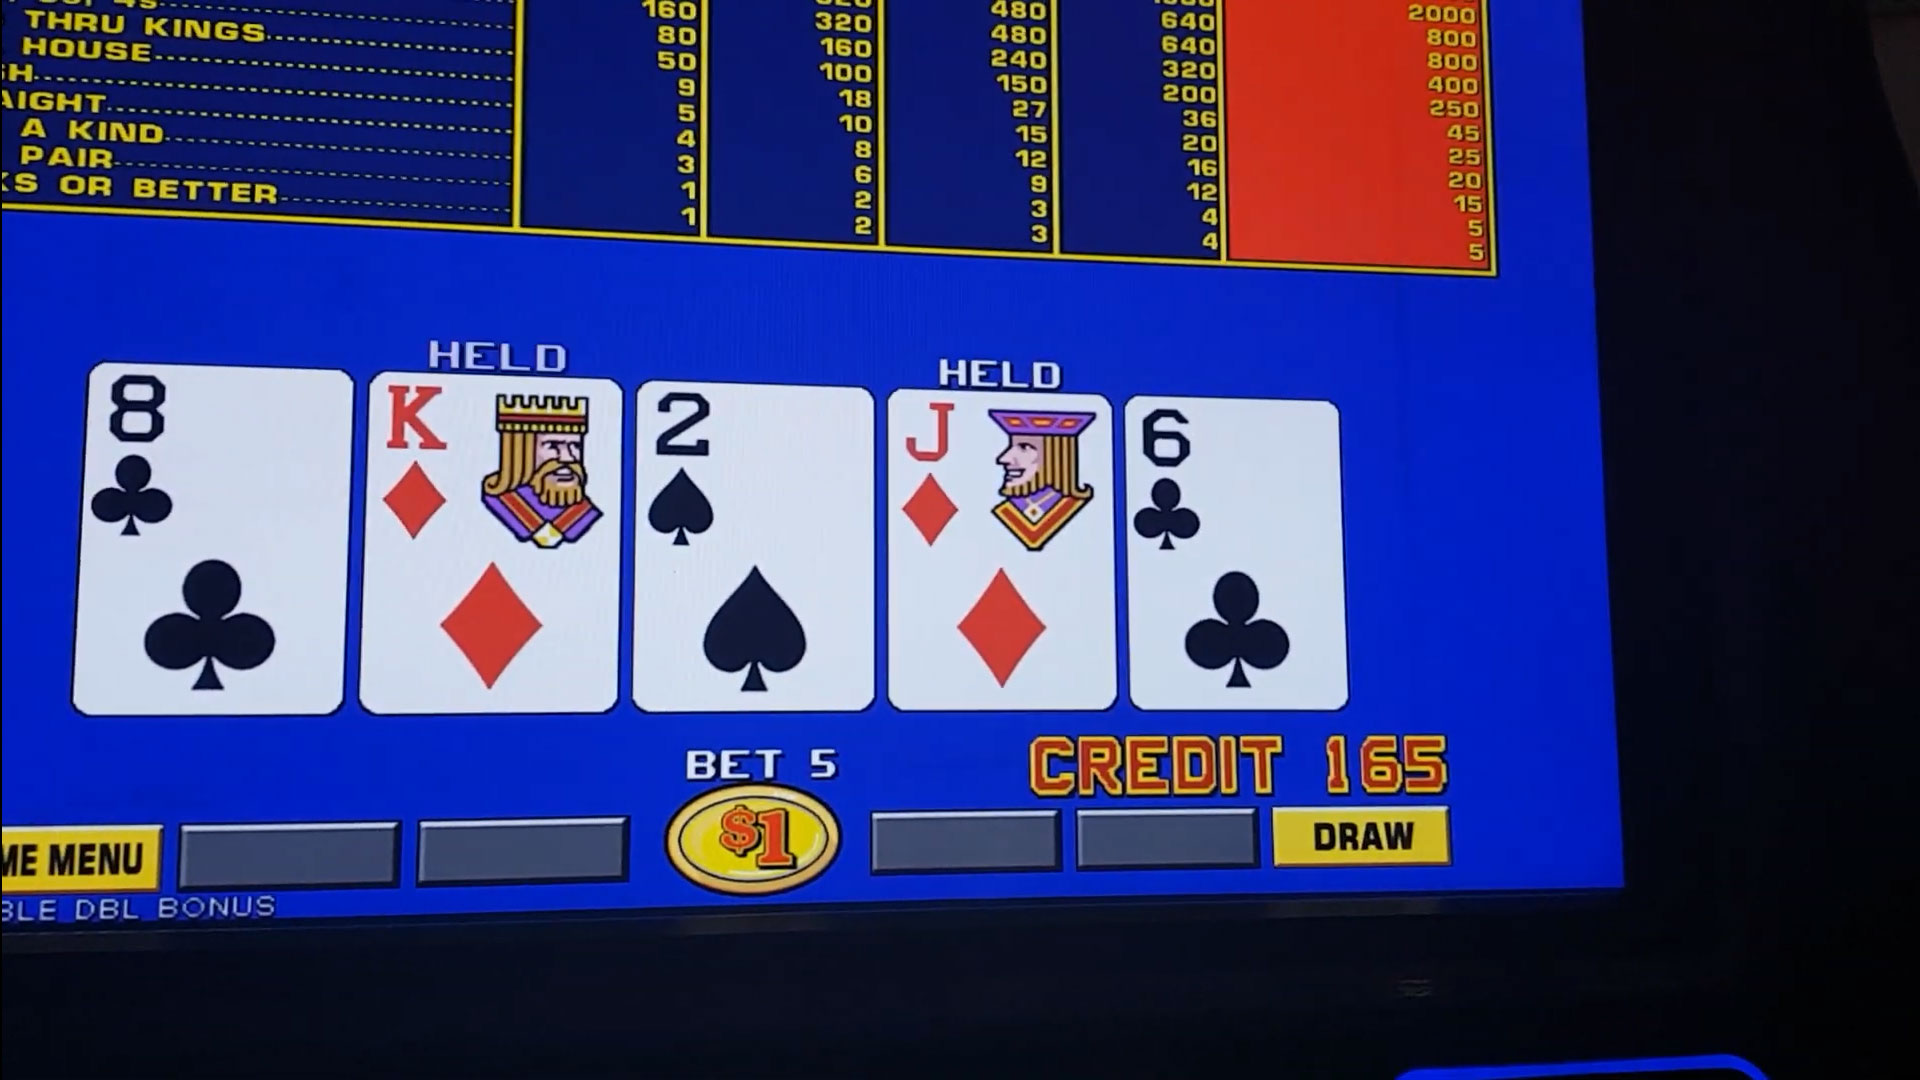C6: (1131, 404, 1340, 564)
C8: (86, 369, 352, 549)
DJ: (893, 398, 1100, 558)
DK: (375, 378, 617, 550)
S2: (644, 393, 866, 555)
